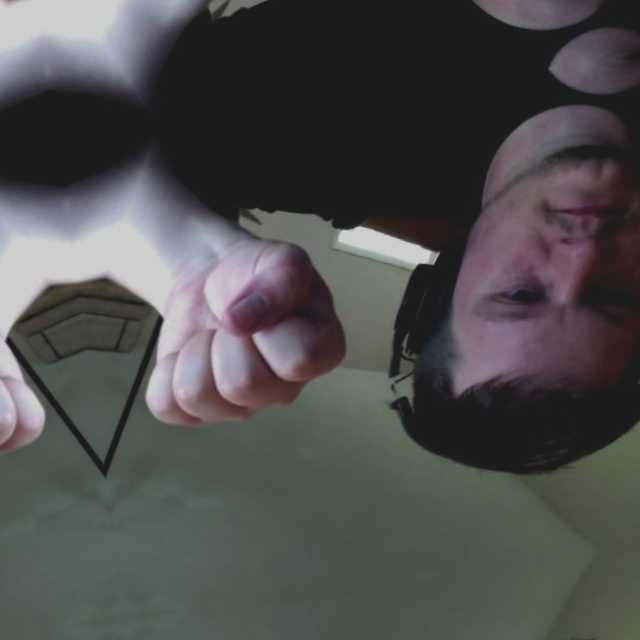Rock: (0, 241, 83, 519)
